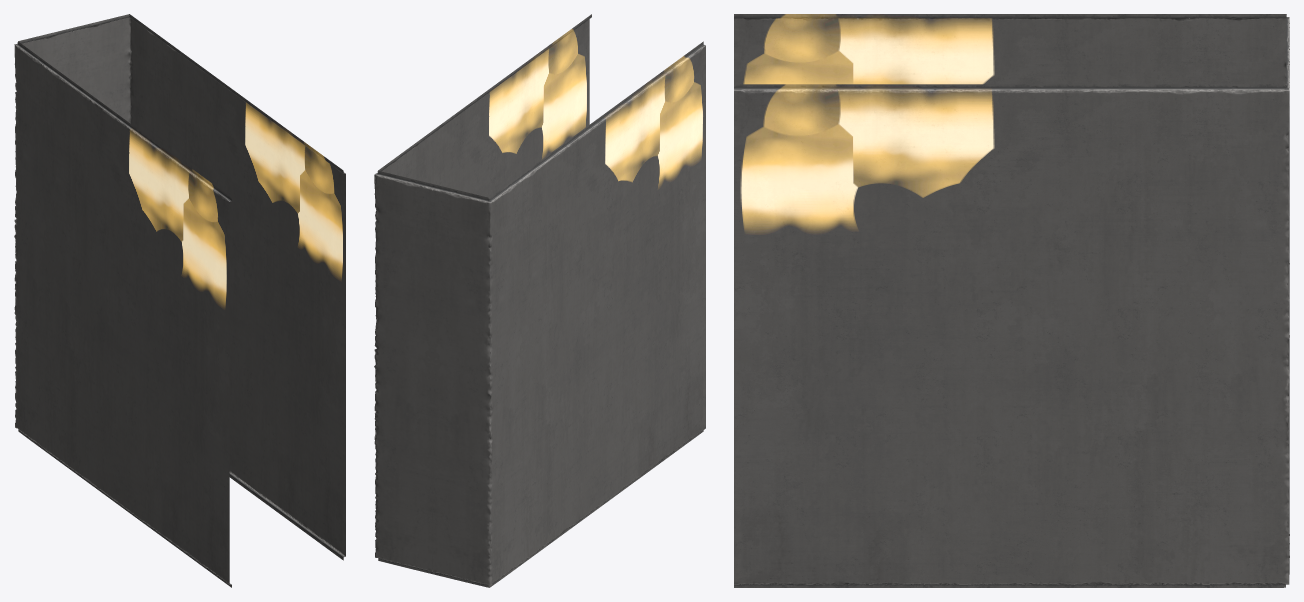
The model's file is SM_Sewer_Wall_Concrete_01c.fbx.
3 views of the same model, side by side, from view 1: azimuth 30°, elevation 25°; view 2: azimuth 150°, elevation 25°; view 3: azimuth 270°, elevation 25° (orthographic). The views are drawn at different scales.
Visible parts, largest first — view 1: SM_Sewer_Wall_Concrete_01c_LOD0; view 2: SM_Sewer_Wall_Concrete_01c_LOD0; view 3: SM_Sewer_Wall_Concrete_01c_LOD0.
Boxes of the visible parts, box(x1,y1,x2,y2) form: SM_Sewer_Wall_Concrete_01c_LOD0: box(14, 14, 345, 587); SM_Sewer_Wall_Concrete_01c_LOD0: box(374, 14, 705, 587); SM_Sewer_Wall_Concrete_01c_LOD0: box(734, 14, 1289, 587).
Size of the model in its own units: 62.82 by 200 by 200.
